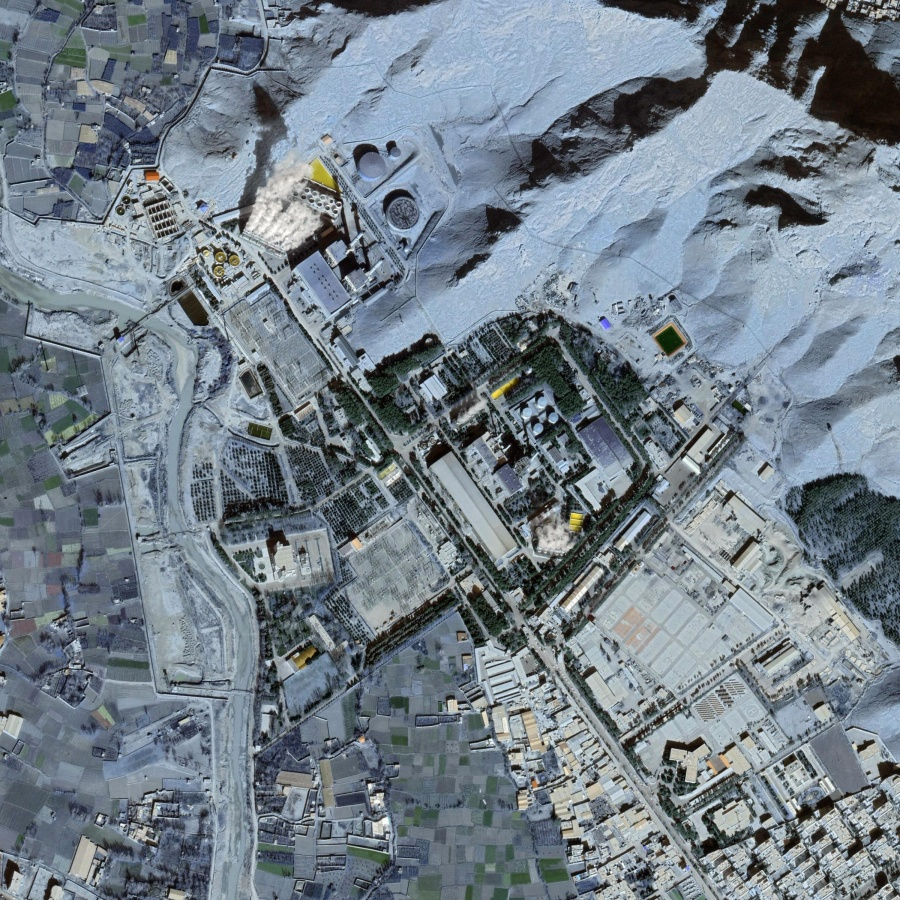PowerPlant: (145, 118, 714, 542)
